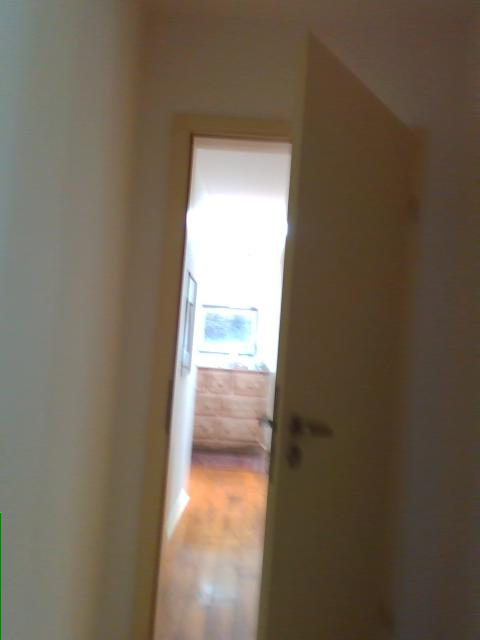semi_door: (128, 22, 425, 639)
